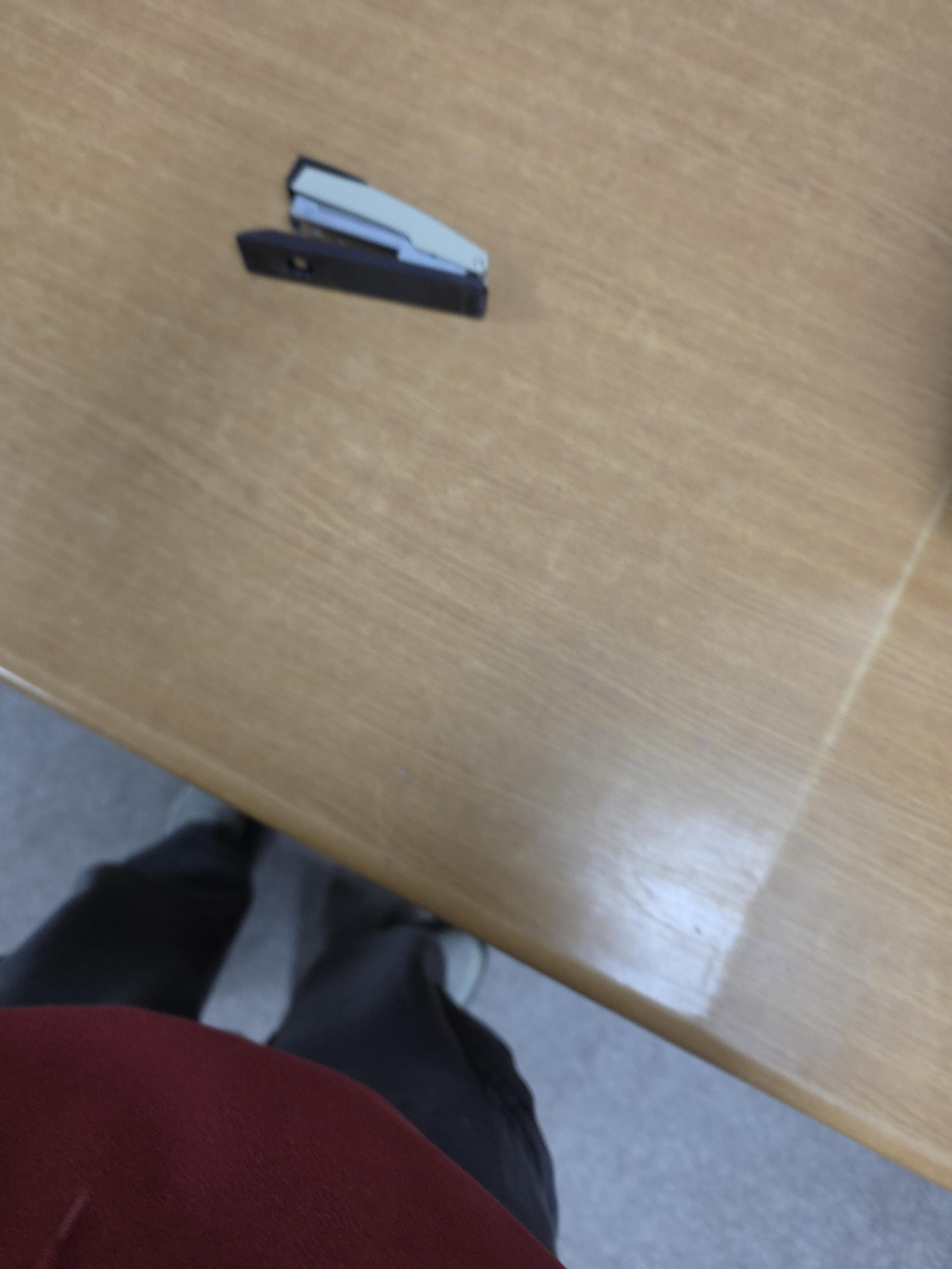stapler: (235, 154, 490, 320)
